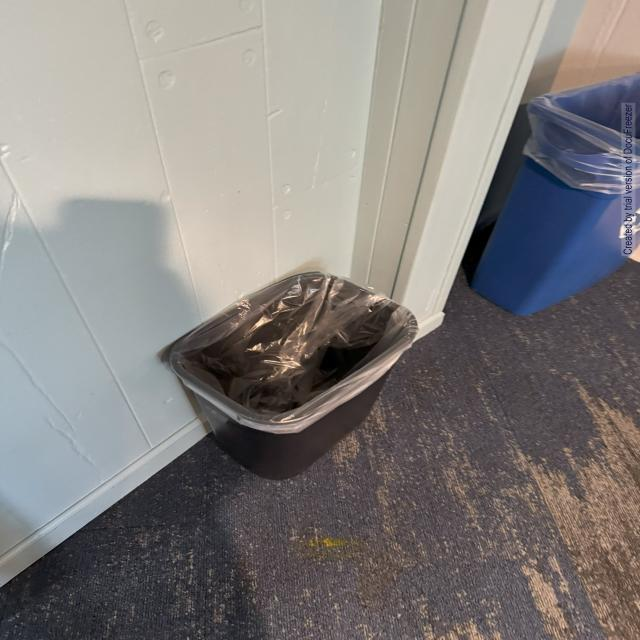Trash bin: (148, 259, 420, 490), (465, 74, 640, 349)
